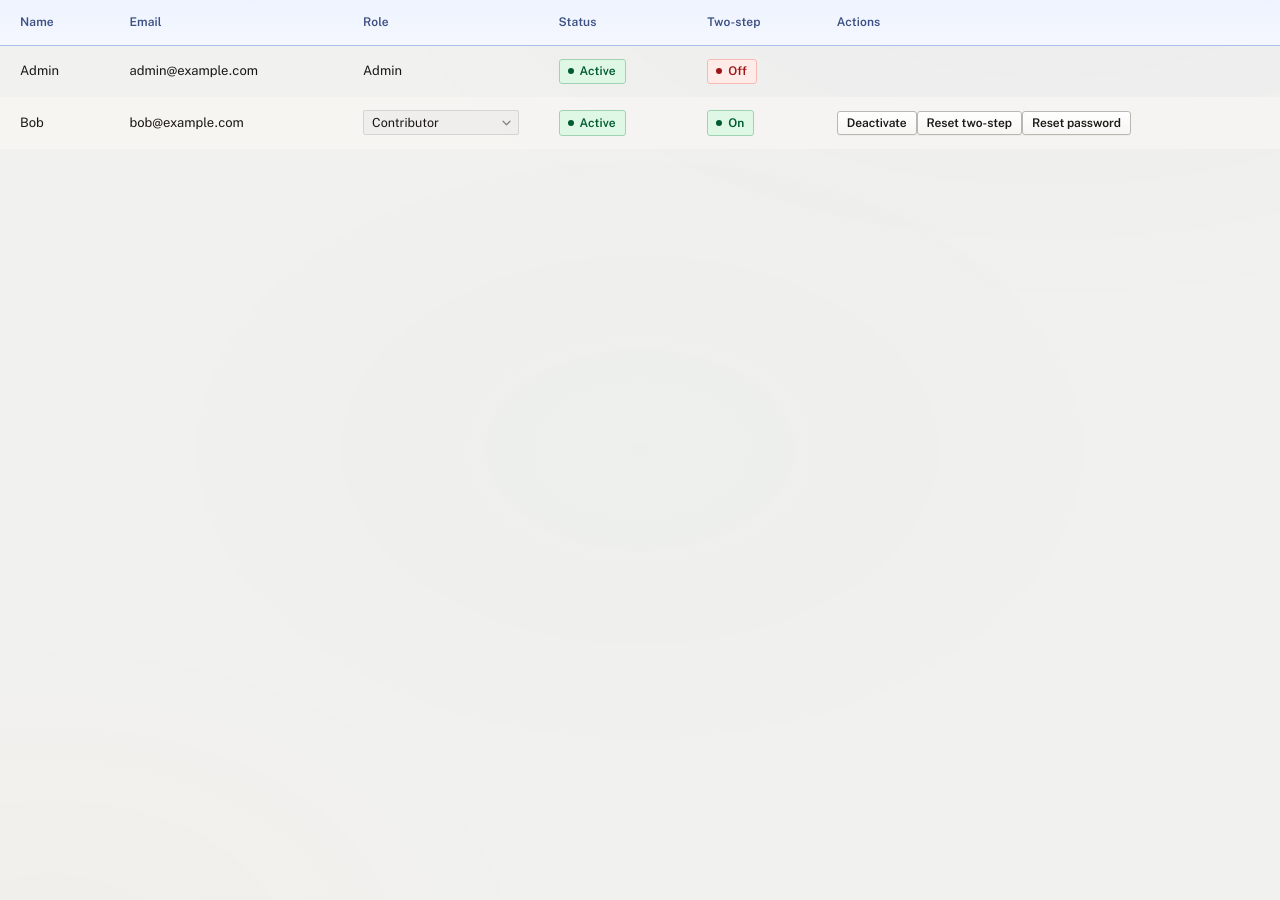
Test: UsersList › two-step sign-in › shows why a reset failed
This screenshot has width=1280, height=900.
Click the button with aria-label "Reset two-step sign-in for Bob". click: (969, 123)
box: [916,111,1022,135]
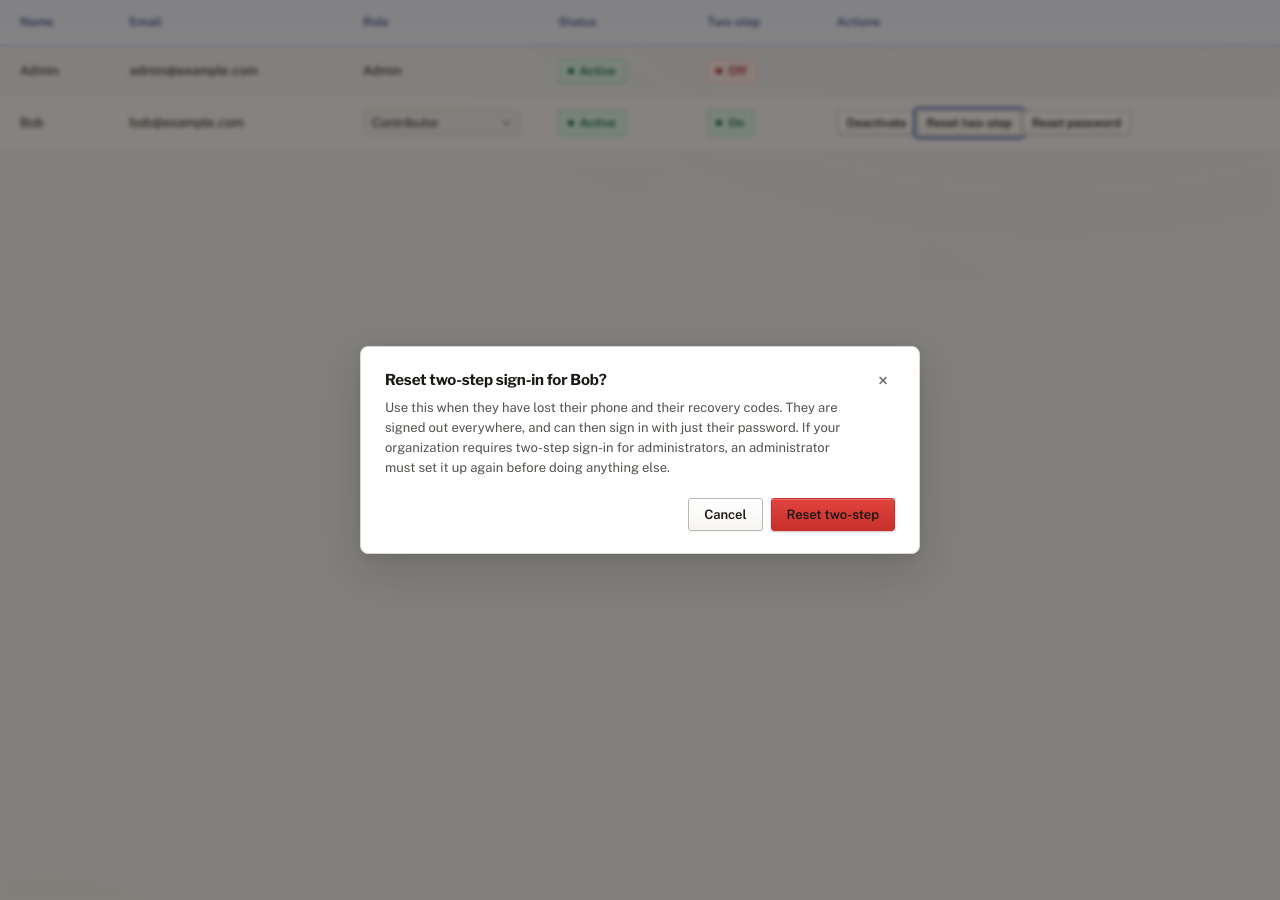
Click the button "Reset two-step". click: (833, 515)
box: [770,498,895,531]
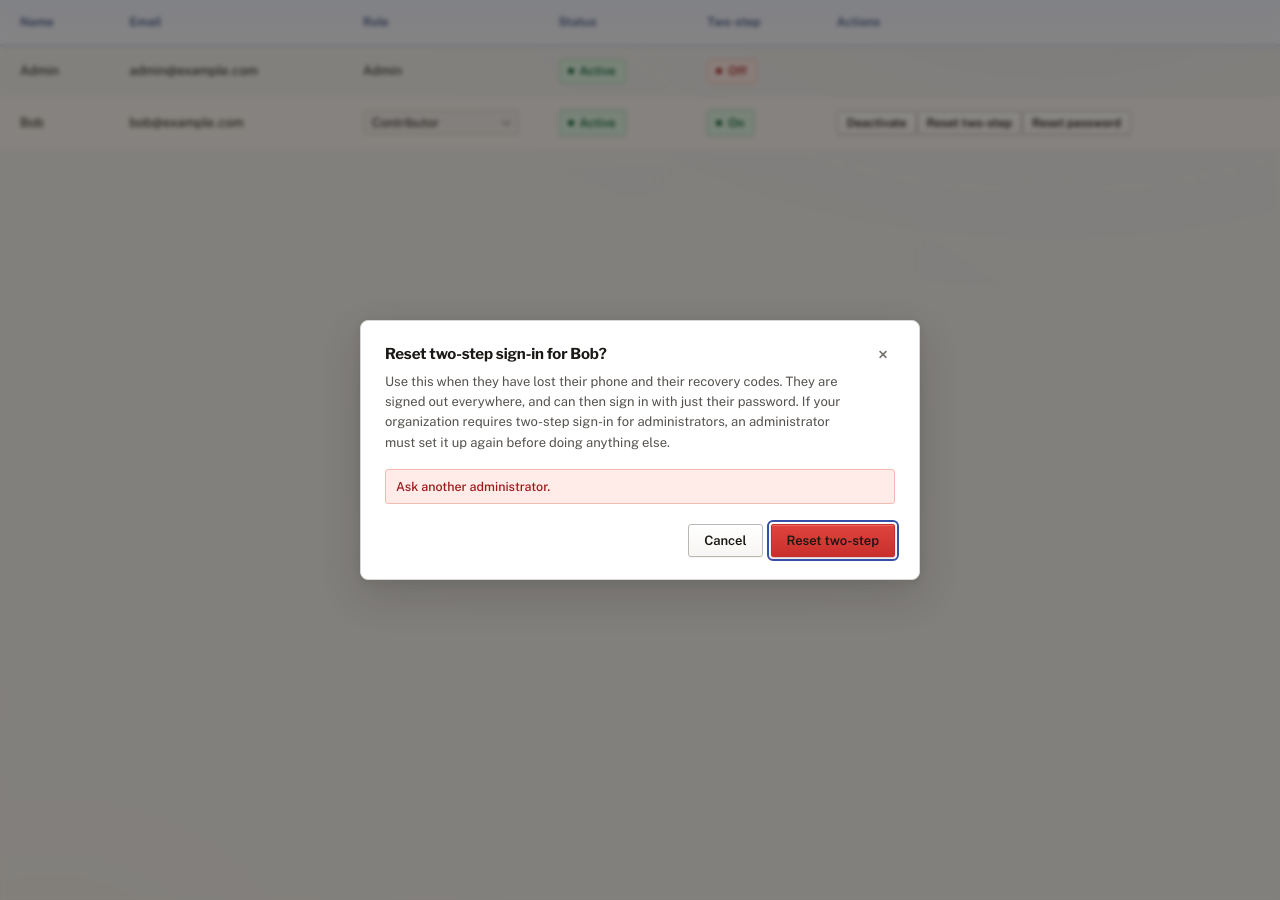
Now the message reads "Ask another administrator.", box [396,479,550,494]
